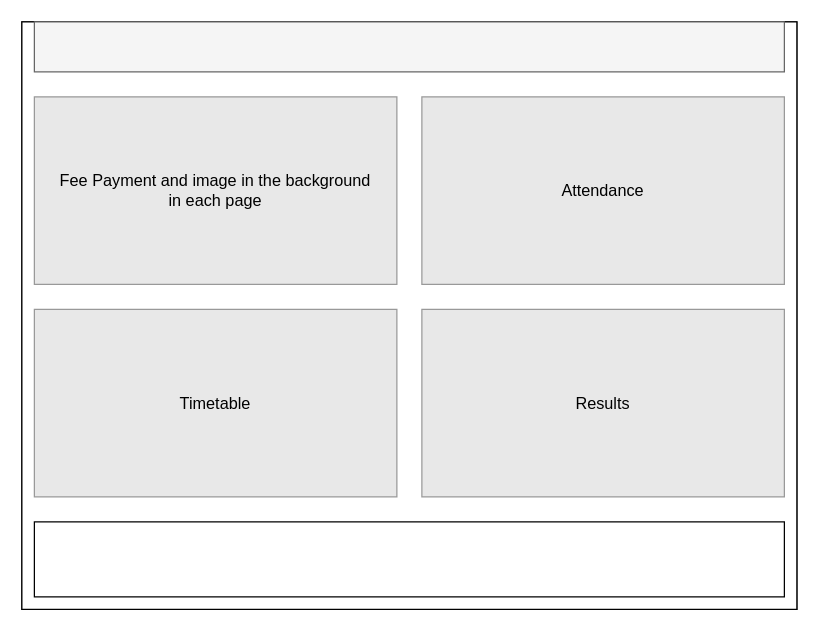
Some shapes in this 819 by 631 pixel diagram are drawn without their labels. Each missing label, with the centre of its shape:
"Footer" belongs at pixel 408 559.
"Nav bar: [Logo] Home Dashboard Events Profile Logout" belongs at pixel 408 46.
